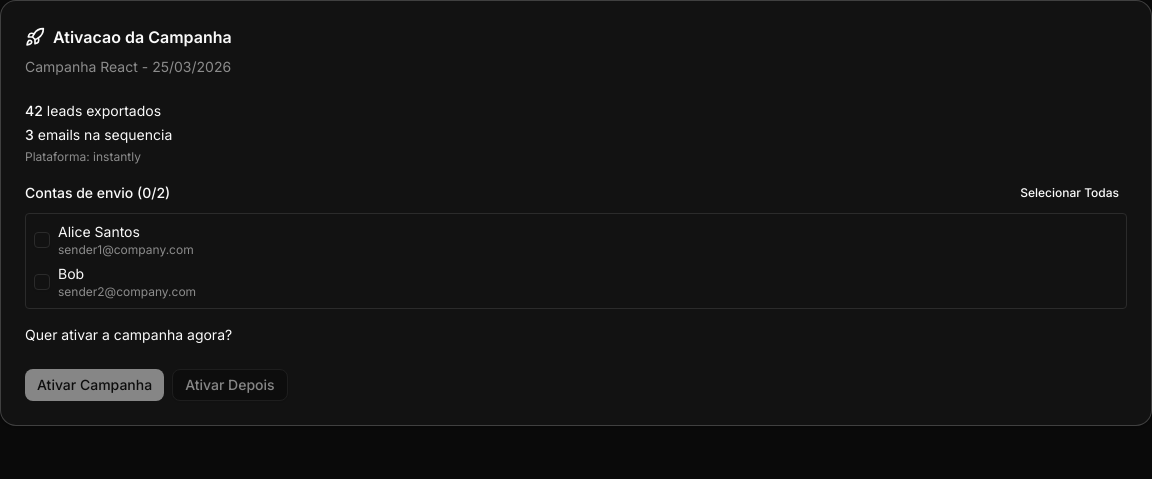
Test: AgentActivationGate (AC: #4, #5, #6) › shows activated feedback after activate
Click the checkbox named "Selecionar conta sender1@company.com" at [42, 240], box [34,232,50,248]
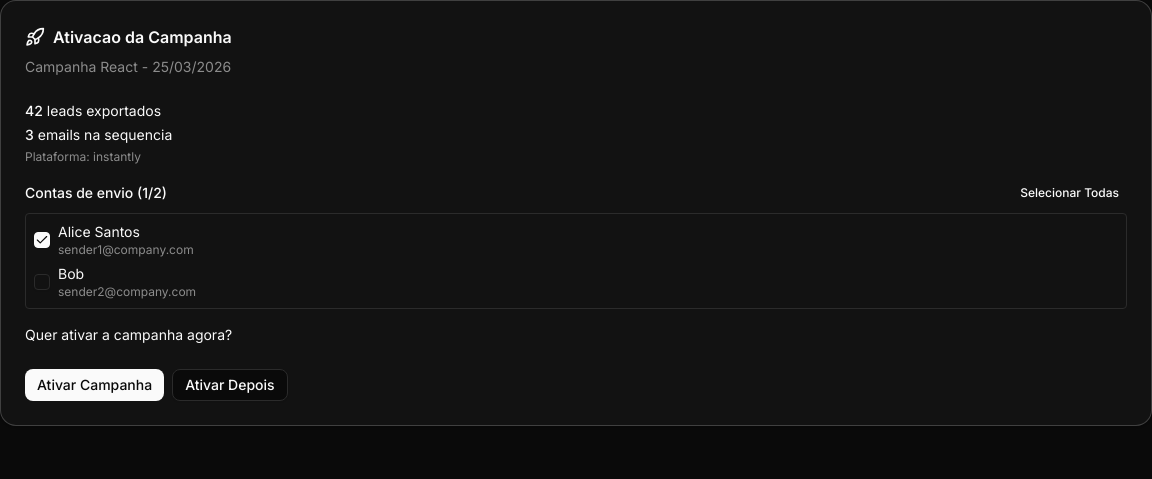
Click the button with test id "activation-activate-btn" at [95, 385], box [25,369,164,401]
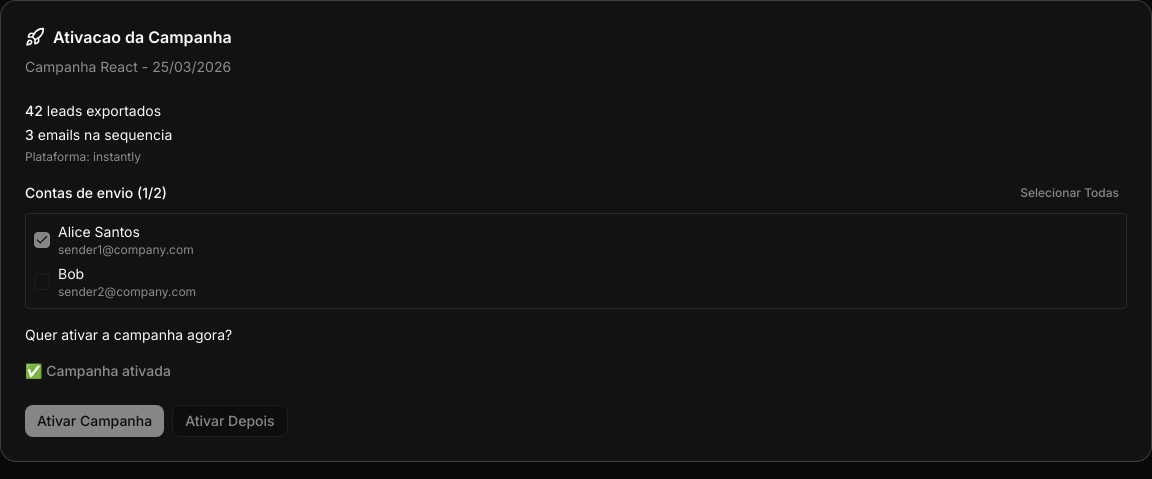
Now the text "✅ Campanha ativada" is shown, box [25,362,171,379]
